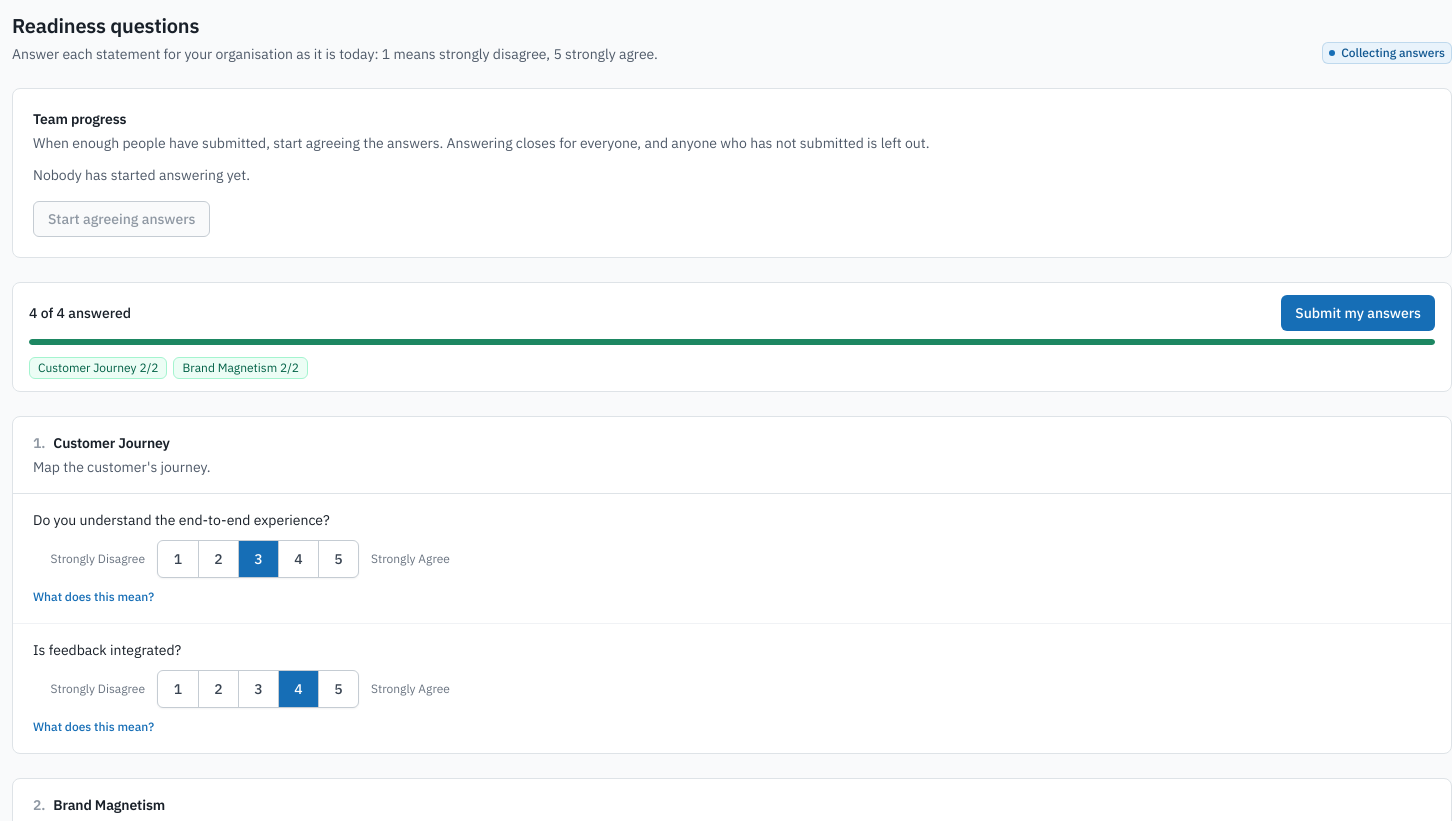
Scenario: QuestionnairePage › submits once every question is answered, after a confirmation
The width and height of the screenshot is (1452, 821).
Click the button "Submit my answers": x=1358, y=313 x1=1281 y1=295 x2=1435 y2=331
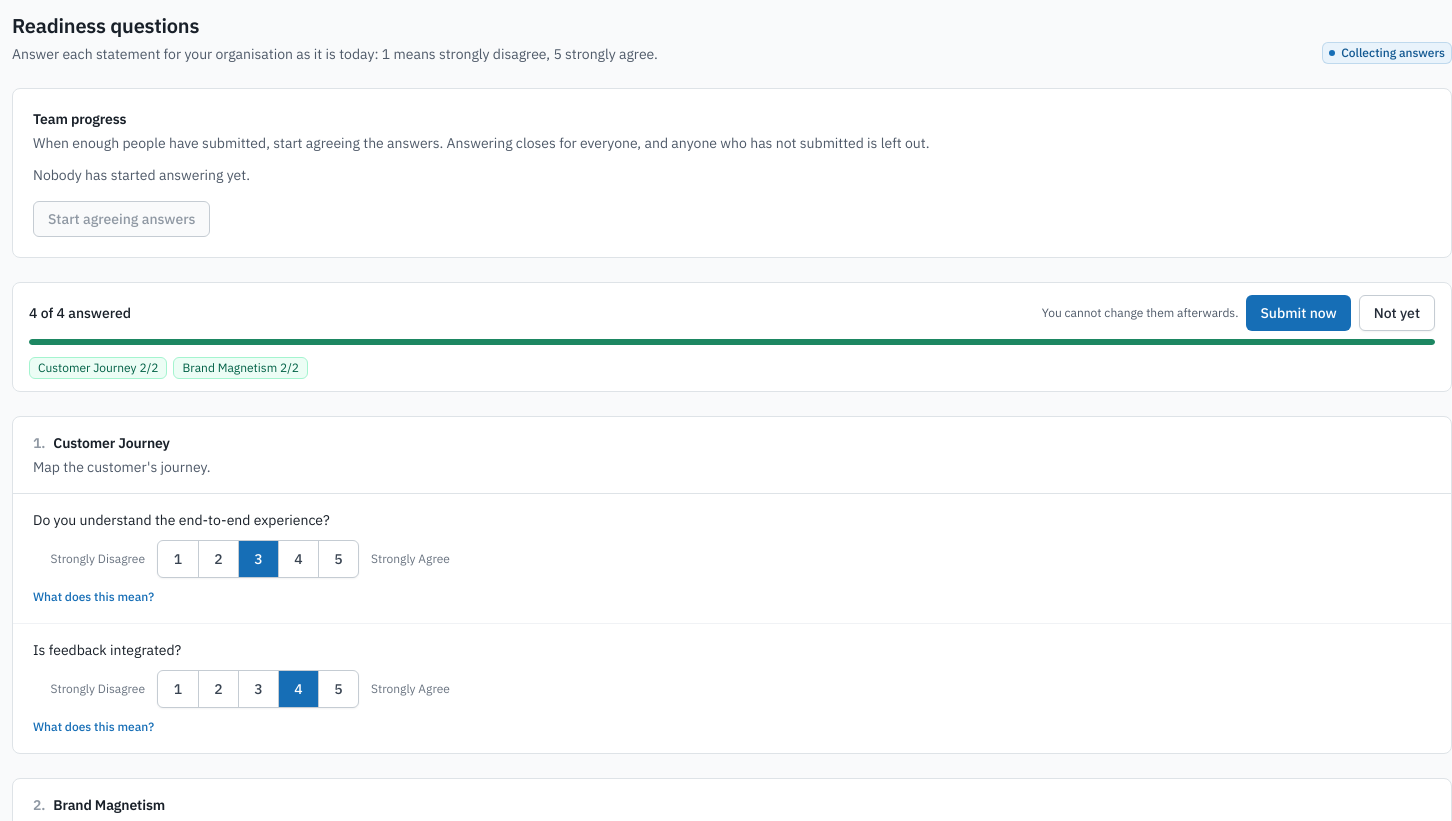
Click the button "Submit now": x=1299, y=313 x1=1246 y1=295 x2=1351 y2=331
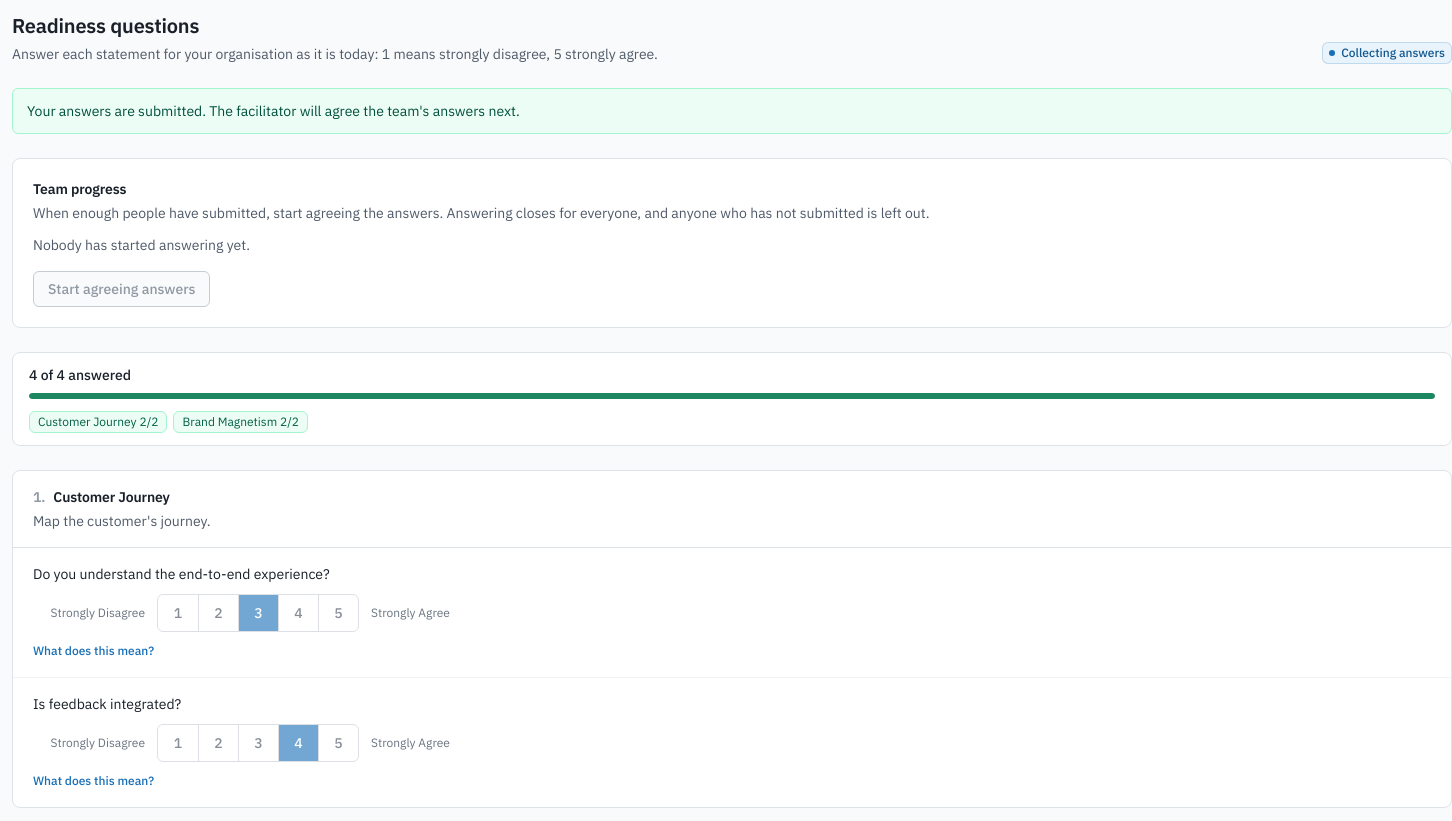
Expected: the radio button labelled "4" below "Is feedback integrated?" is disabled, x1=278 y1=725 x2=318 y2=761
Now the text "Your answers are submitted" is shown, box x1=27 y1=102 x2=520 y2=120
